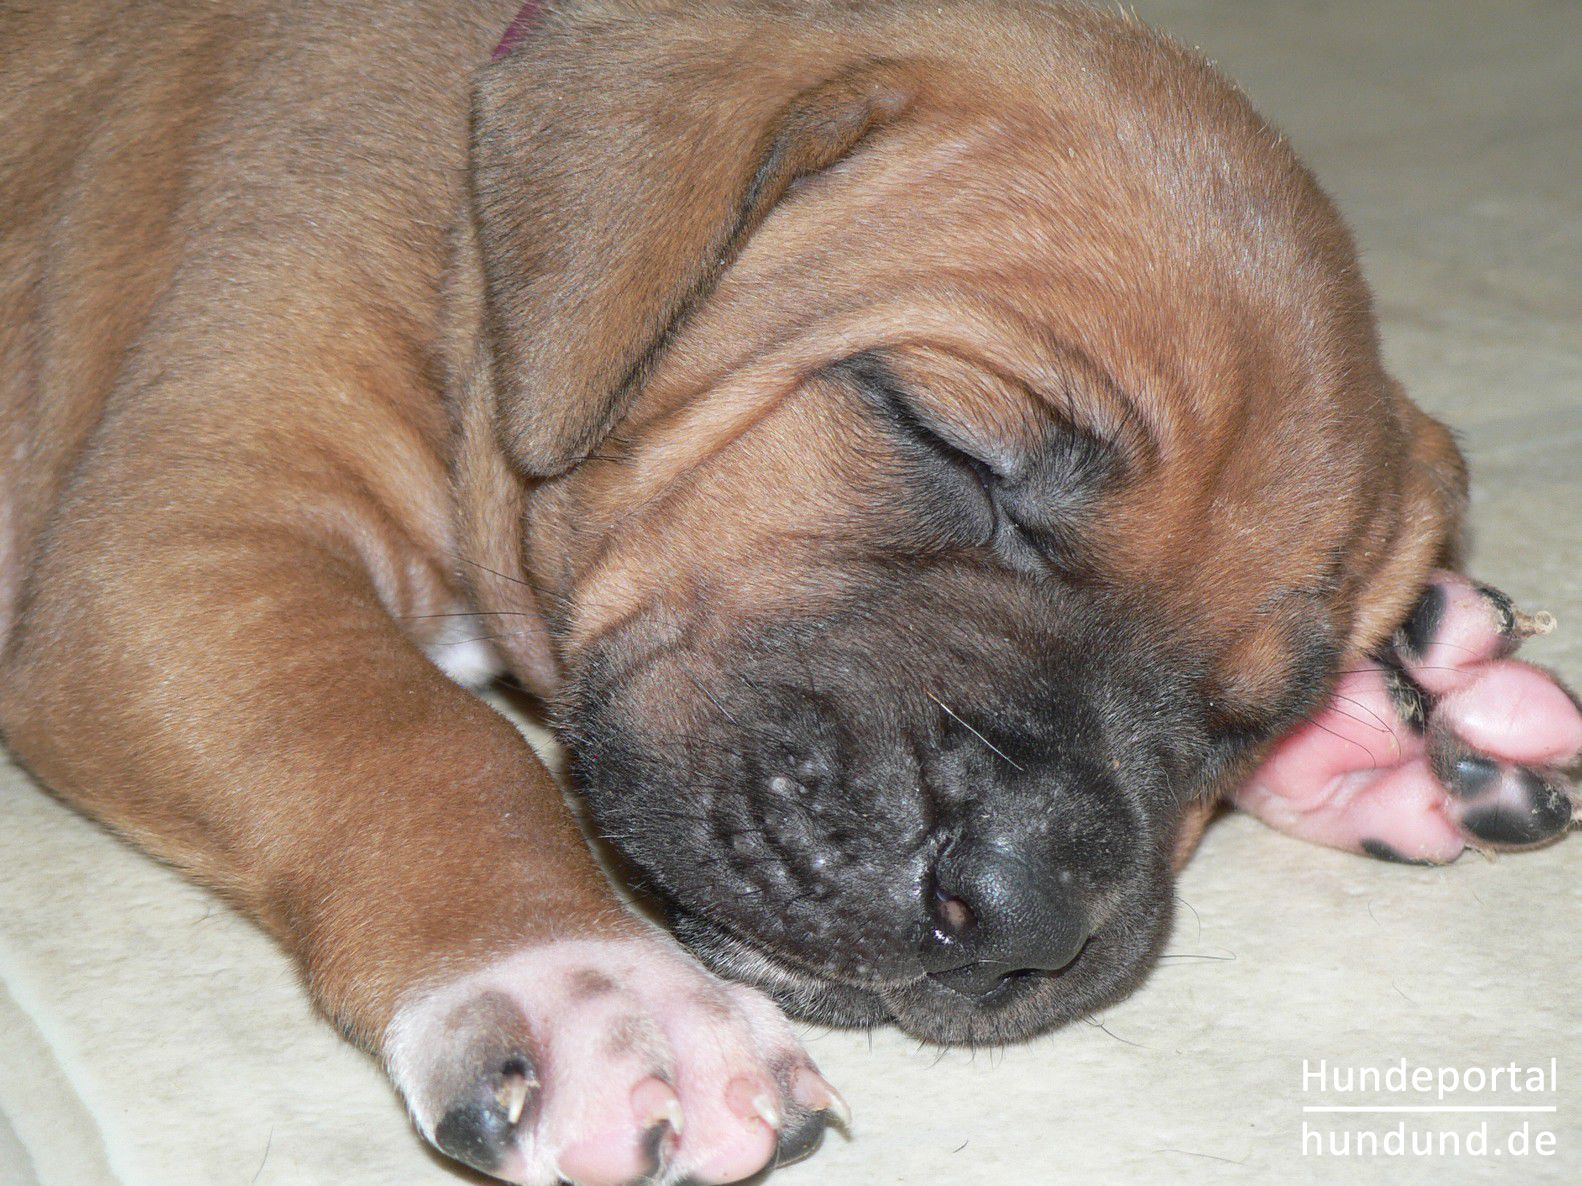tosa_inu: (0, 0, 1582, 1186)
